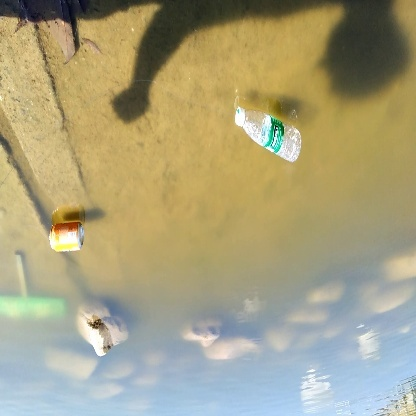bottle: (233, 105, 305, 170), (49, 220, 88, 255)
